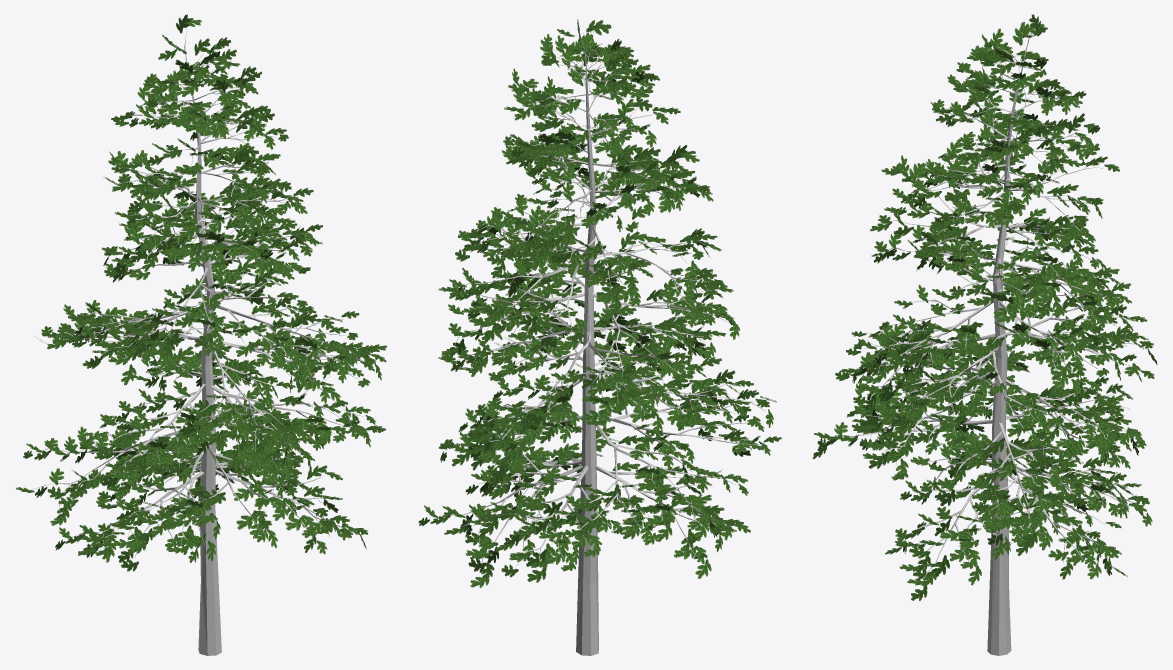
File: pineTree_model_fixed2.fbx
3 renders of one model, left to right at view 1: azimuth 30°, elevation 25°; view 2: azimuth 150°, elevation 25°; view 3: azimuth 270°, elevation 25°, orthographic. The views are drawn at different scales.
Visible parts, largest first — view 1: leaves.001; view 2: leaves.001; view 3: leaves.001.
Part boxes in pixels (x1,y1,x2,y2): leaves.001: (16, 14, 386, 655); leaves.001: (418, 19, 781, 655); leaves.001: (812, 14, 1157, 655).
Bounding box in the file's own units: 341 × 641 × 318.
